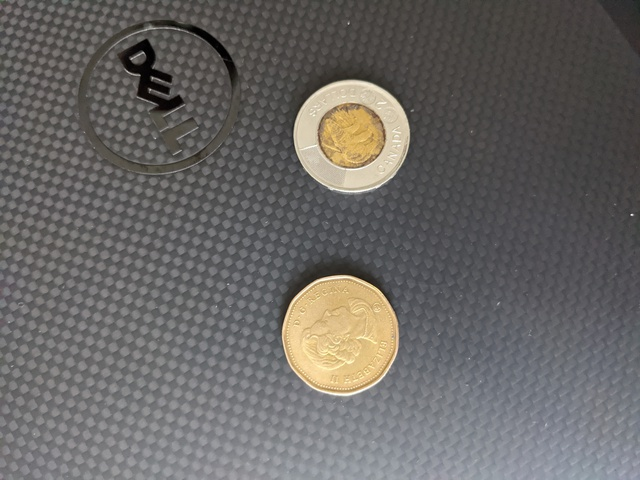loonie: (270, 267, 407, 399)
twonie: (278, 79, 421, 195)
